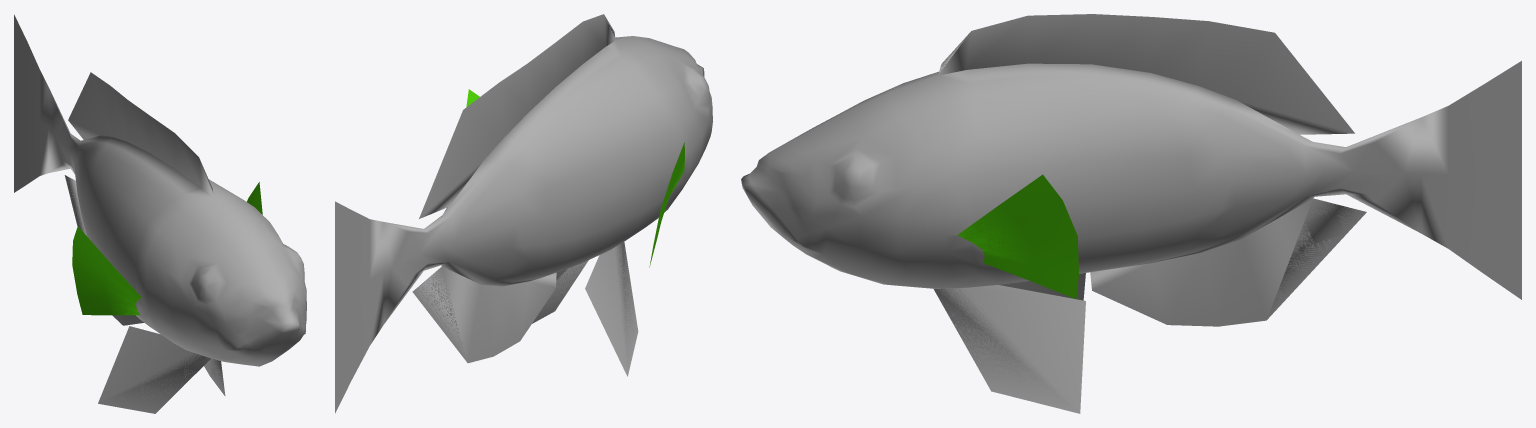
File: Priacabthidae_A_S.fbx
The picture shows the model from 3 angles, left to right: view 1: azimuth 30°, elevation 25°; view 2: azimuth 150°, elevation 25°; view 3: azimuth 270°, elevation 25°; orthographic projection. The views are drawn at different scales.
Parts seen in each view (by area): view 1: Priacabthidae_A_S_Mesh; view 2: Priacabthidae_A_S_Mesh; view 3: Priacabthidae_A_S_Mesh.
Boxes of the visible parts, x1,y1,x2,y2 form: Priacabthidae_A_S_Mesh: (14, 14, 306, 413); Priacabthidae_A_S_Mesh: (335, 14, 712, 413); Priacabthidae_A_S_Mesh: (741, 14, 1521, 413).
Bounding box in the file's own units: 0.0037 × 0.00528 × 0.0103.
